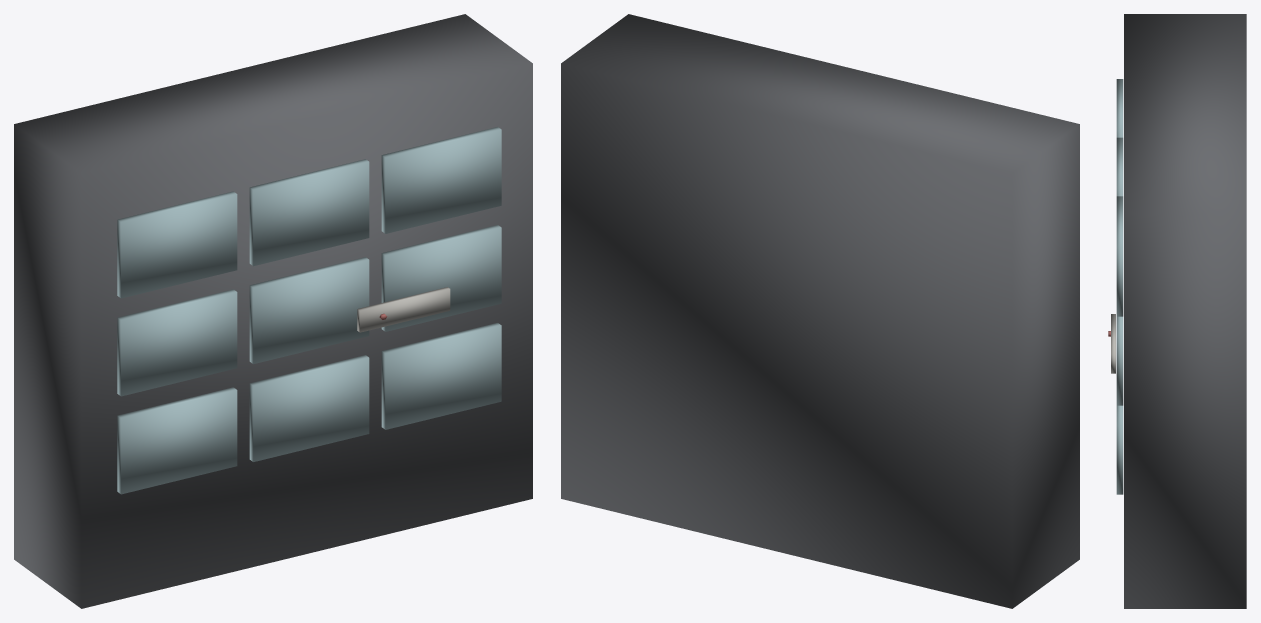
Rendered from security_monitor_bank__wide.glb.
The picture shows the model from 3 angles, left to right: view 1: azimuth 30°, elevation 25°; view 2: azimuth 150°, elevation 25°; view 3: azimuth 270°, elevation 25°; orthographic projection. The views are drawn at different scales.
Parts seen in each view (by area): view 1: world; view 2: world; view 3: world.
Boxes of the visible parts, left/top/right/bottom form: world: left=14, top=14, right=532, bottom=608; world: left=561, top=14, right=1079, bottom=608; world: left=1108, top=14, right=1246, bottom=608.
Size of the model in its own units: 1.74 by 1.6 by 0.5085.
